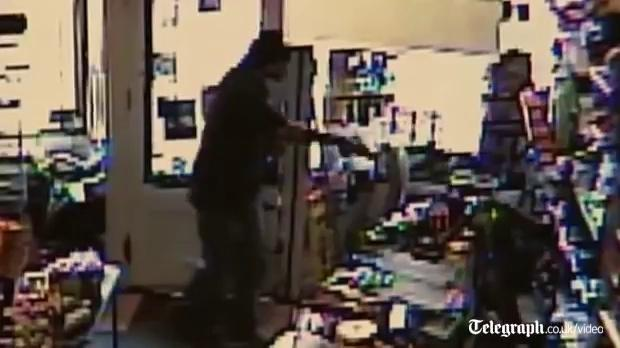weapon: (348, 134, 375, 161)
